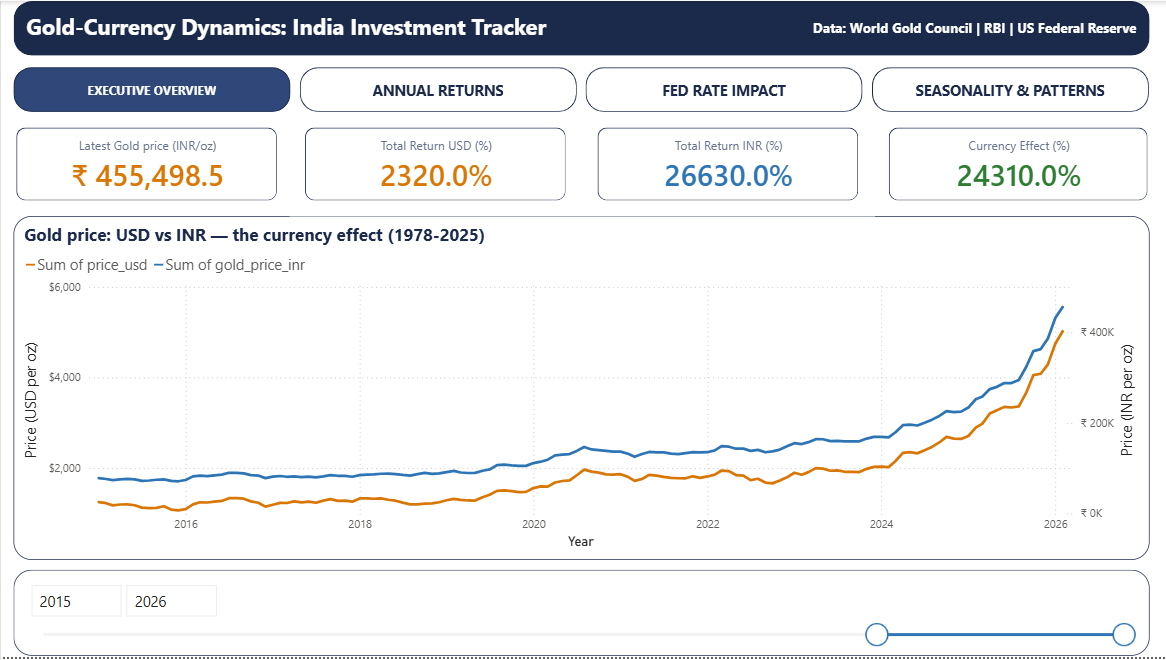

Layout of this report page (visuals, bound fields, positions):
{"tool":"powerbi","page":{"name":"EXECUTIVE OVERVIEW","canvas":[1280,720],"ordinal":0},"visuals":[{"type":"cardVisual","fields":{"Data":["gold_investment_master.latest_gold_inr"]},"box":[0,122.4,320.4,114.3],"z":0},{"type":"cardVisual","fields":{"Data":["gold_investment_master.Currency Effect (%)"]},"box":[958,122.4,318.8,114.3],"z":1000},{"type":"lineChart","title":"Gold price: USD vs INR — the currency effect (1978-2025)","fields":{"Y":["Sum(gold_investment_master.price_usd)"],"Y2":["Sum(gold_investment_master.gold_price_inr)"],"Category":["gold_investment_master.date.Variation.Date Hierarchy.Year","gold_investment_master.date.Variation.Date Hierarchy.Quarter","gold_investment_master.date.Variation.Date Hierarchy.Month","gold_investment_master.date.Variation.Date Hierarchy.Day"]},"box":[13.7,236,1247.3,377.4],"z":2000},{"type":"slicer","title":"Year Range","fields":{"Values":["gold_investment_master.year"]},"box":[13.7,624.4,1247.3,94.7],"z":3000},{"type":"cardVisual","fields":{"Data":["gold_investment_master.Total Return INR (%)"]},"box":[637.6,122.4,320.4,114.3],"z":4000},{"type":"cardVisual","fields":{"Data":["gold_investment_master.Total Return USD (%)"]},"box":[317.2,122.4,320.4,114.3],"z":5000},{"type":"pageNavigator","box":[13.7,72.7,1247.3,49.4],"z":6000},{"type":"shape","box":[13.7,0,1247.3,60],"z":7000},{"type":"textbox","title":"Gold-Currency Dynamics: India Investment Tracker","box":[22,0,606.5,59],"z":8000},{"type":"textbox","title":" Data: World Gold Council | RBI | US Federal Reserve","box":[813.7,2.7,439.1,54.9],"z":9000}]}

Visuals, with their boxes in screenshot pixels (x1, y1, x2, y2), scaled from the page's 1280x720 canvas onto the 1166x660 screenshot:
cardVisual - gold_investment_master.latest_gold_inr: 0/112/292/217
cardVisual - gold_investment_master.Currency Effect (%): 873/112/1163/217
"Gold price: USD vs INR — the currency effect (1978-2025)" lineChart: 12/216/1149/562
"Year Range" slicer: 12/572/1149/659
cardVisual - gold_investment_master.Total Return INR (%): 581/112/873/217
cardVisual - gold_investment_master.Total Return USD (%): 289/112/581/217
pageNavigator: 12/67/1149/112
shape: 12/0/1149/55
"Gold-Currency Dynamics: India Investment Tracker" textbox: 20/0/573/54
" Data: World Gold Council | RBI | US Federal Reserve" textbox: 741/2/1141/53
